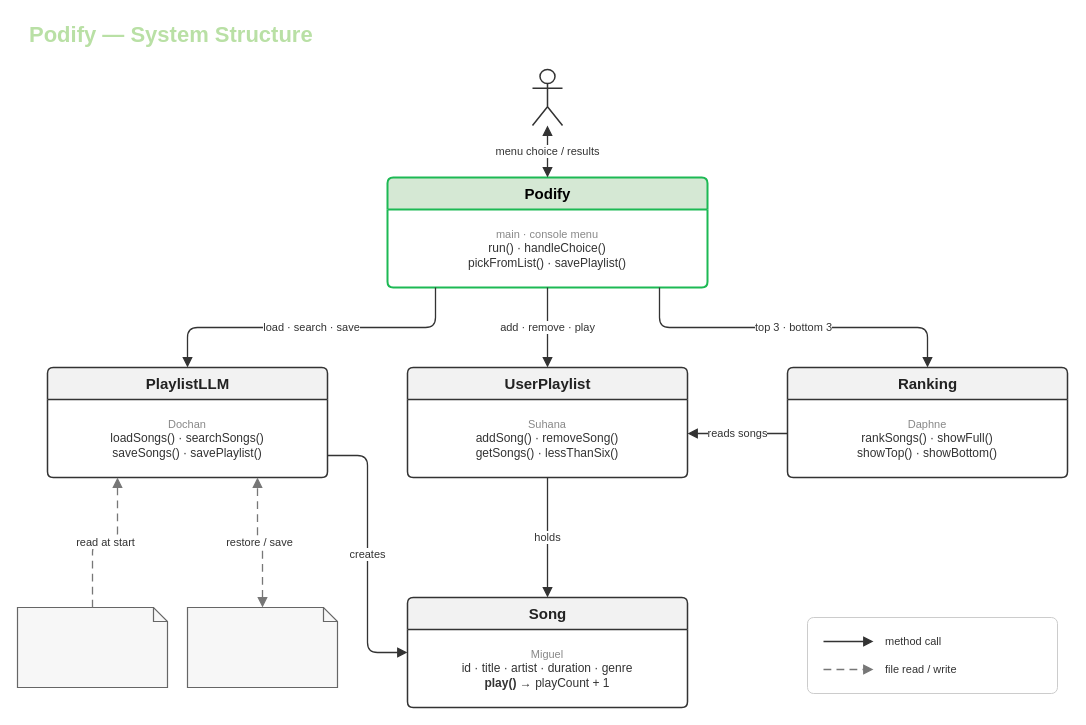
Some shapes in this 1086 by 725 pixel diagram are drawn without their labels. The shapes that lost their labels are listed below. From the top down, each one's centre as x and y in pixels, then its label:
At point 547,97: "User".
At point 92,647: "llm_playlist.csv LLM song list · read only".
At point 262,647: "my_playlist.csv playlist + play counts".
